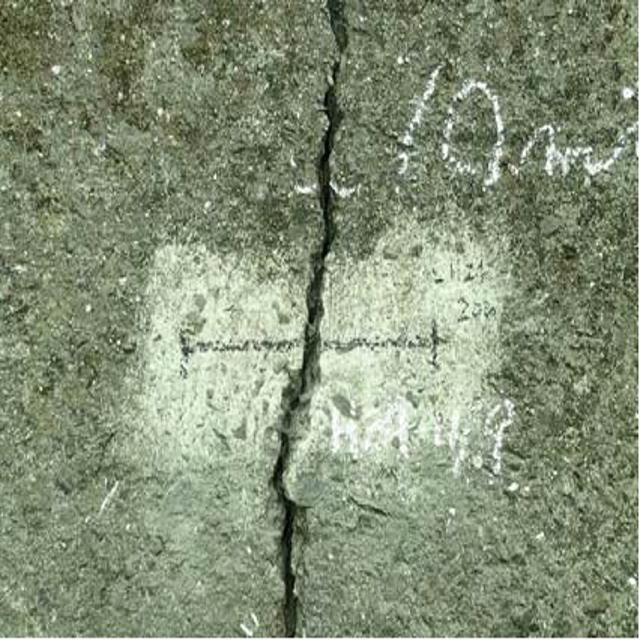crack: (263, 1, 358, 628)
